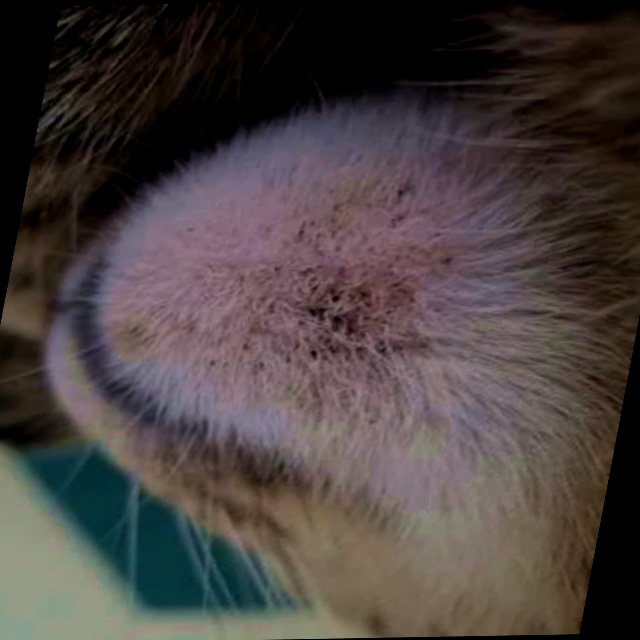acne: (198, 182, 485, 386)
